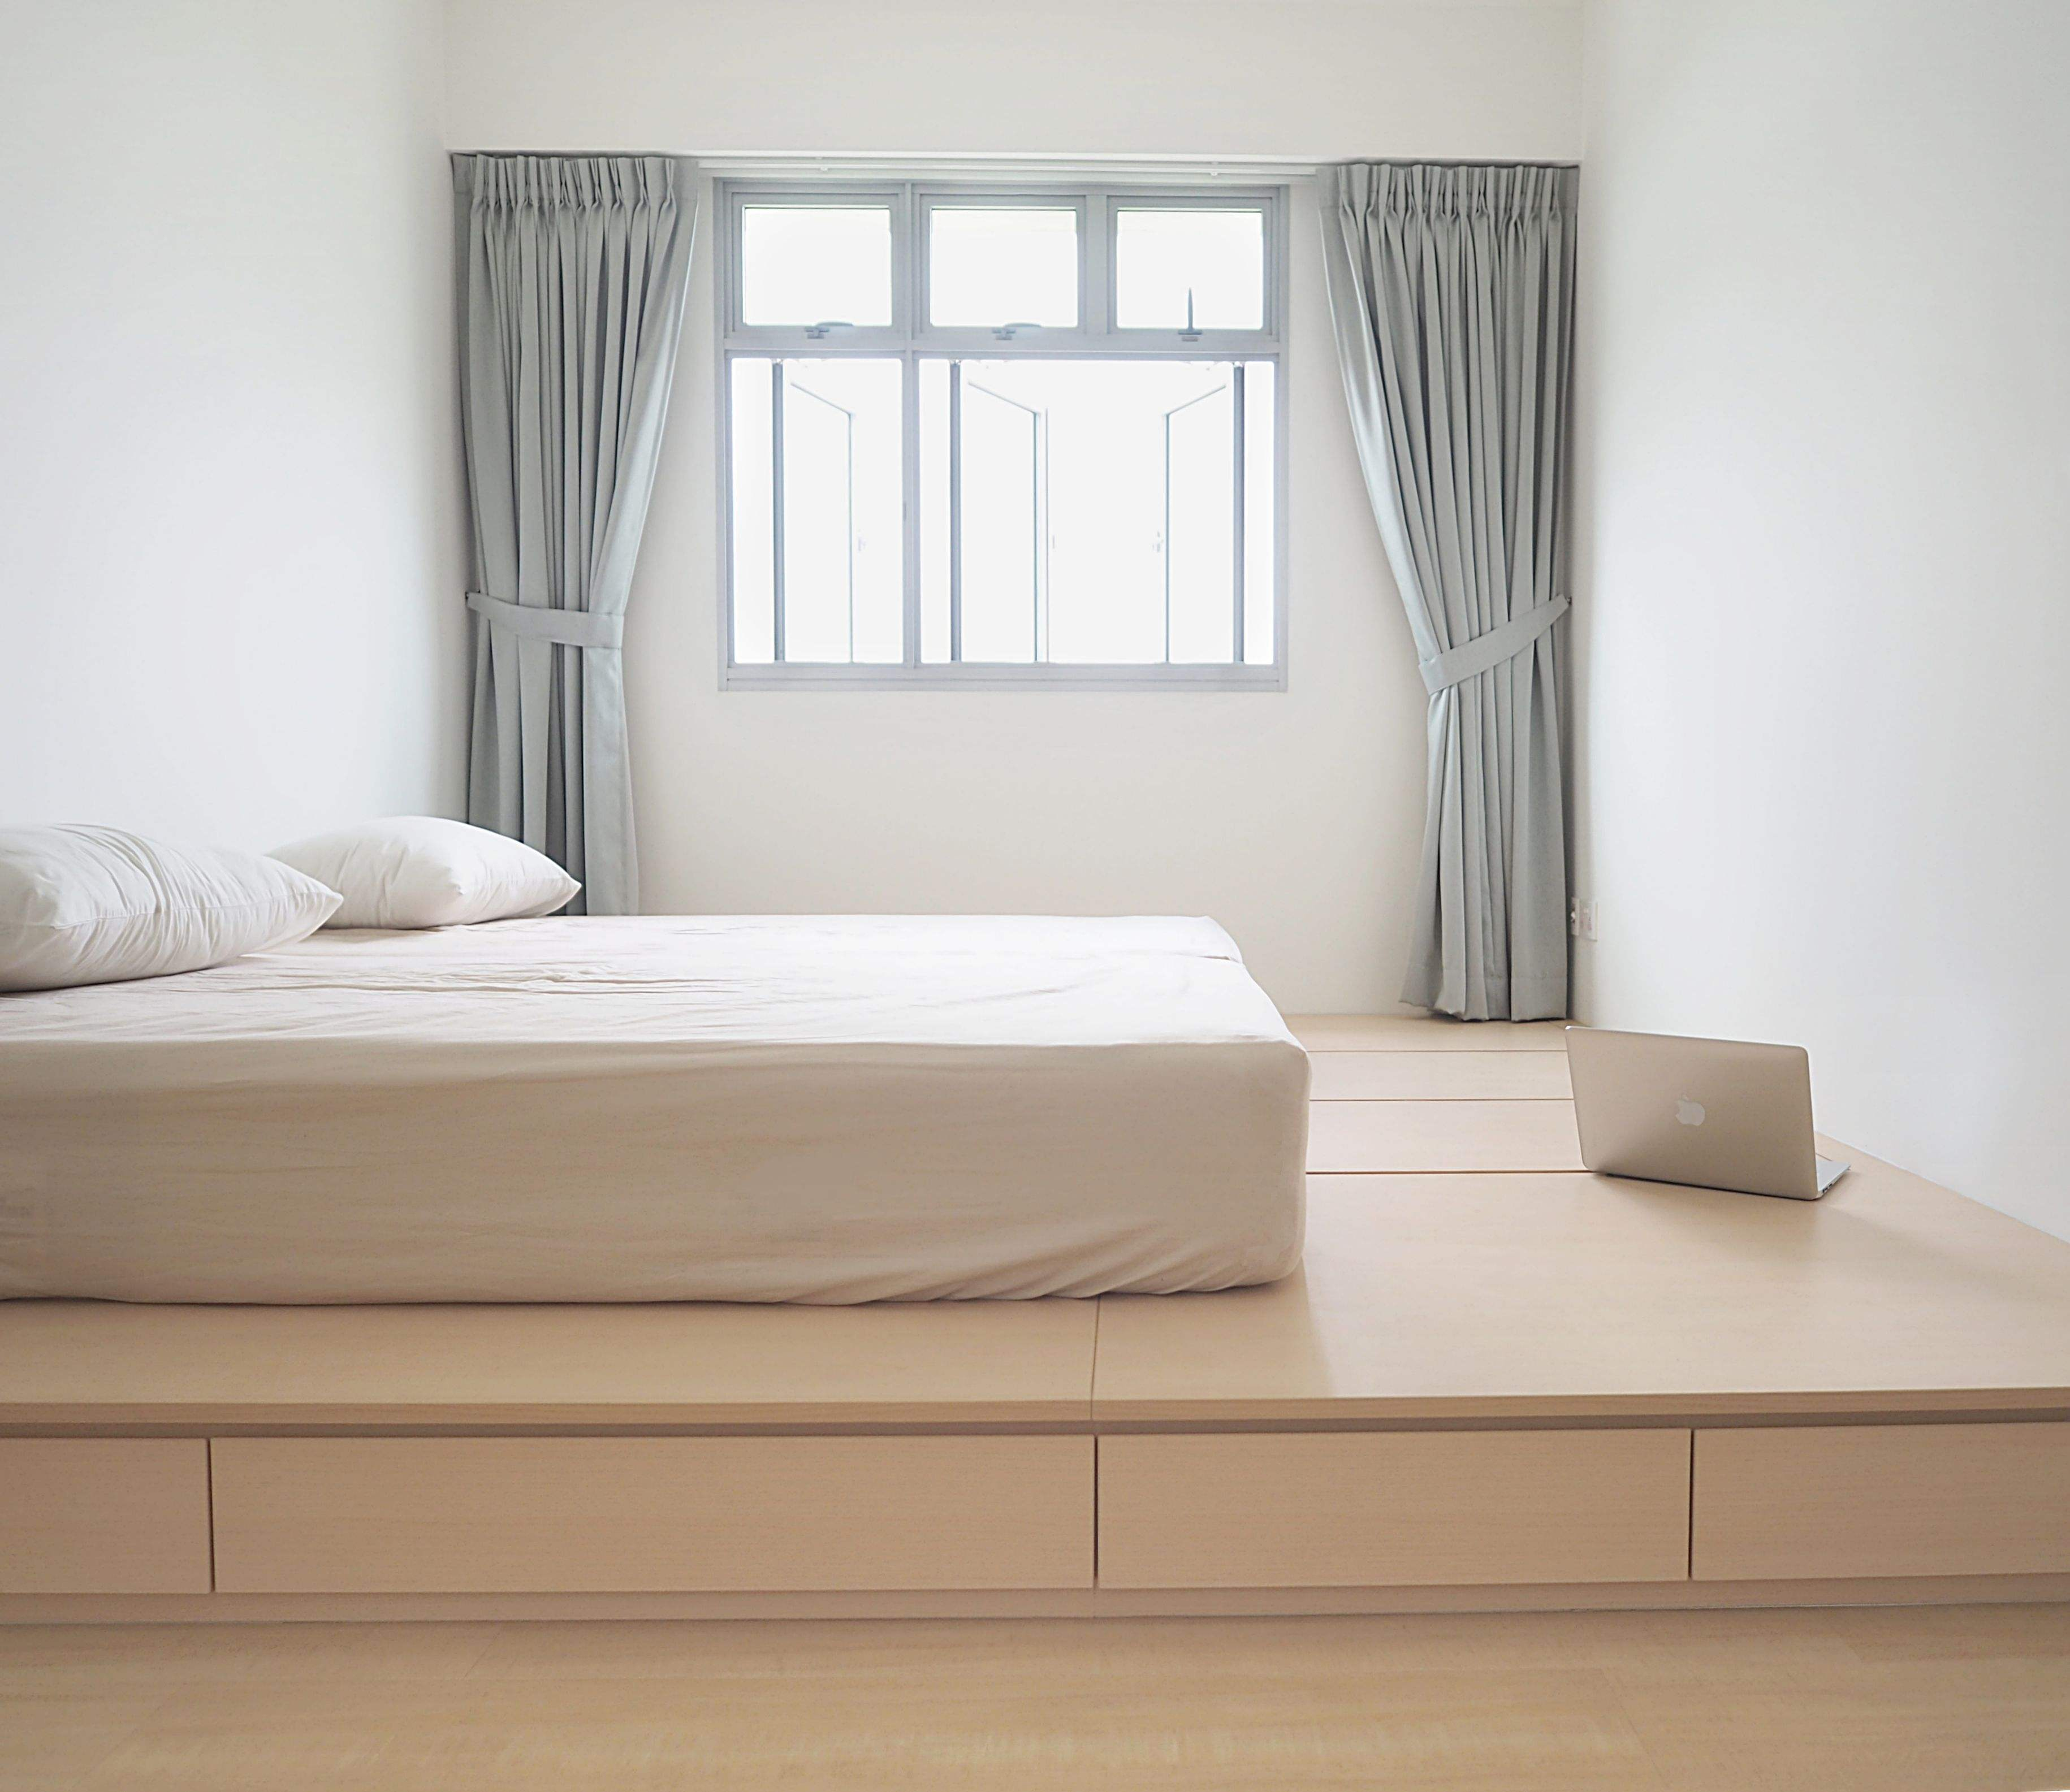床: (0, 914, 1257, 1384)
枕头: (0, 801, 577, 977)
